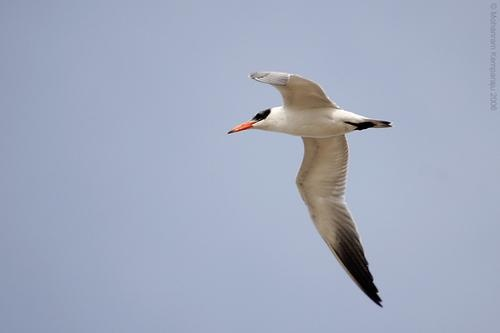bird: (218, 68, 404, 305)
